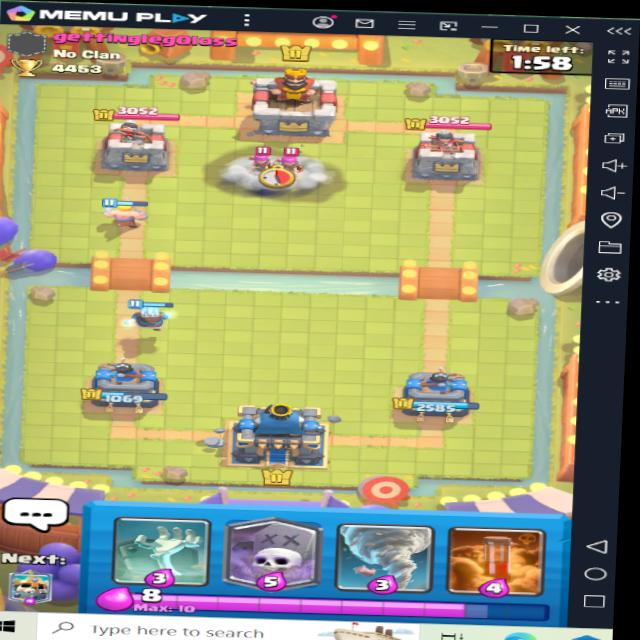Archer: (247, 143, 280, 178), (274, 145, 306, 176)
